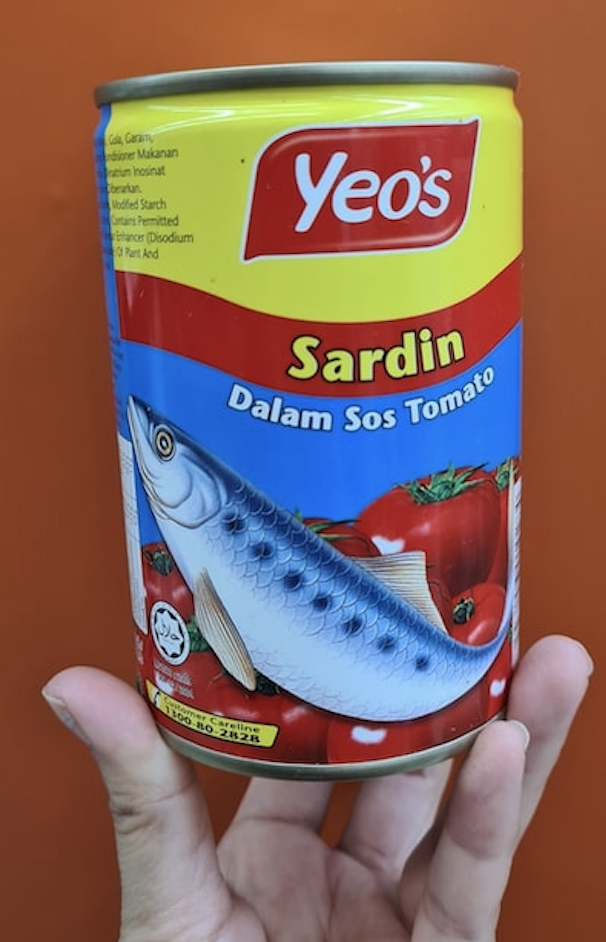Halal: (152, 615, 184, 648)
